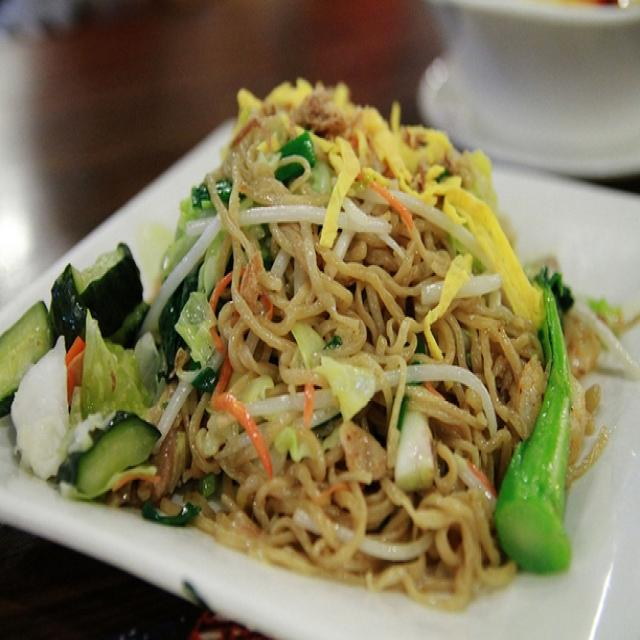面条主食: (29, 24, 619, 618)
